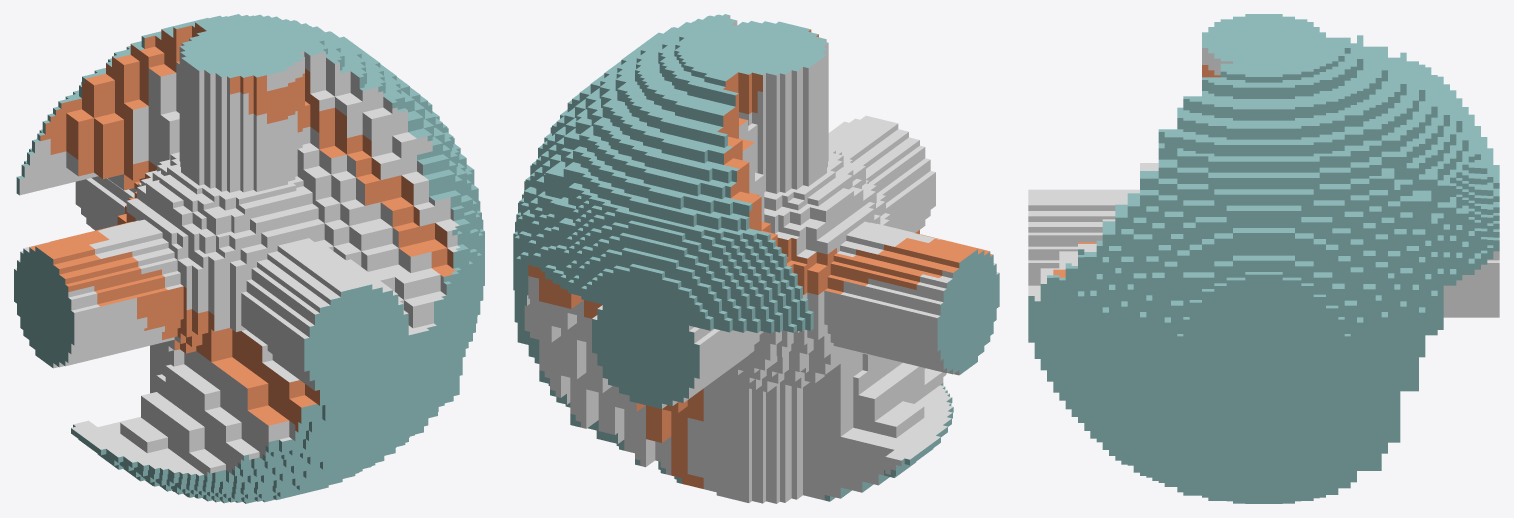
The model's file is Mine4-4.obj.
The picture shows the model from 3 angles, left to right: view 1: azimuth 30°, elevation 25°; view 2: azimuth 150°, elevation 25°; view 3: azimuth 270°, elevation 25°; orthographic projection. The views are drawn at different scales.
Size of the model in its own units: 7.6 by 7.6 by 7.6.
